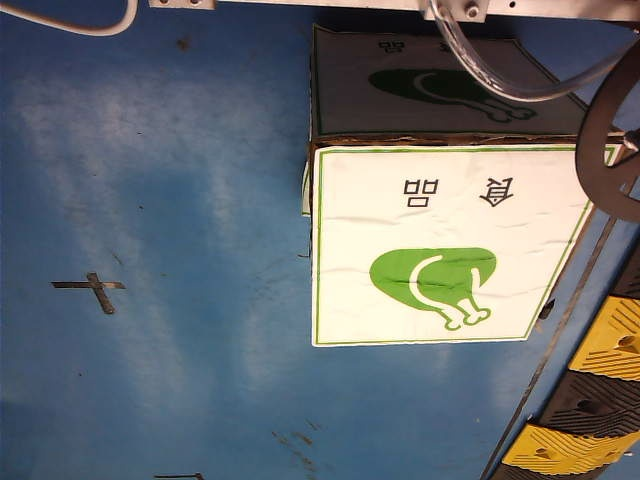Cube_food: (344, 161, 527, 338)
